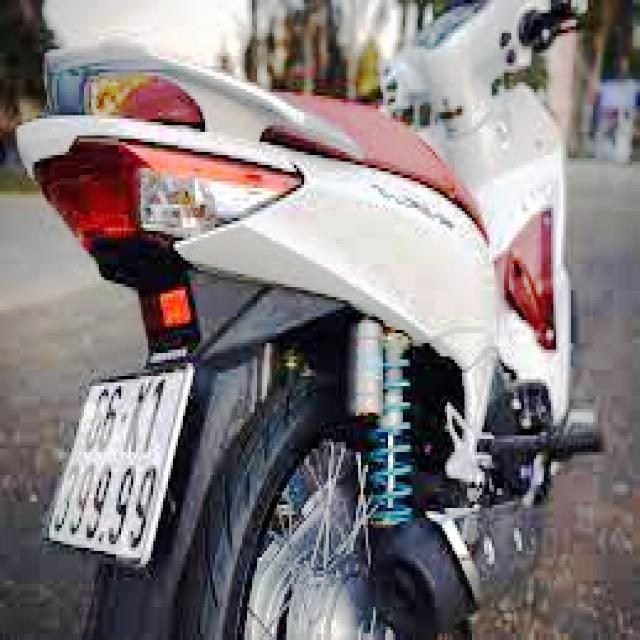license_plate: (48, 369, 189, 565)
